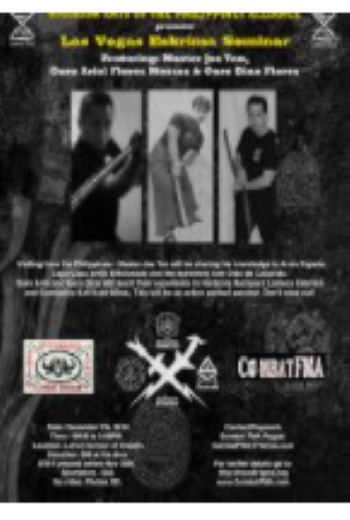baston_e: (81, 139, 131, 209), (239, 195, 261, 241), (171, 173, 190, 219), (223, 134, 241, 176)
baston_v: (65, 190, 77, 211), (178, 217, 194, 231), (218, 123, 230, 134)
